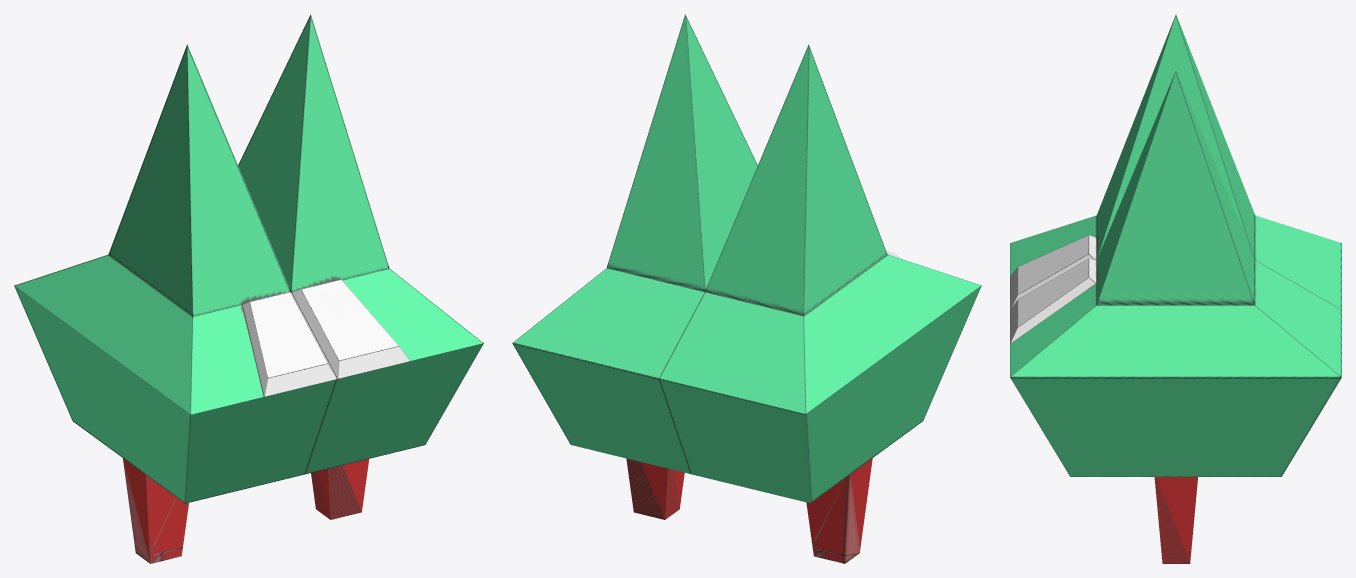
Rendered from enemy3.obj.
The picture shows the model from 3 angles, left to right: view 1: azimuth 30°, elevation 25°; view 2: azimuth 150°, elevation 25°; view 3: azimuth 270°, elevation 25°; orthographic projection. The views are drawn at different scales.
Parts seen in each view (by area): view 1: Cube; view 2: Cube; view 3: Cube.
Part boxes in pixels (left/top/right/bottom): Cube: left=14, top=14, right=483, bottom=563; Cube: left=512, top=14, right=981, bottom=563; Cube: left=1010, top=14, right=1341, bottom=563.
Size of the model in its own units: 0.0879 by 0.1442 by 0.0916.
Materials: 1 (1 with a texture image).
